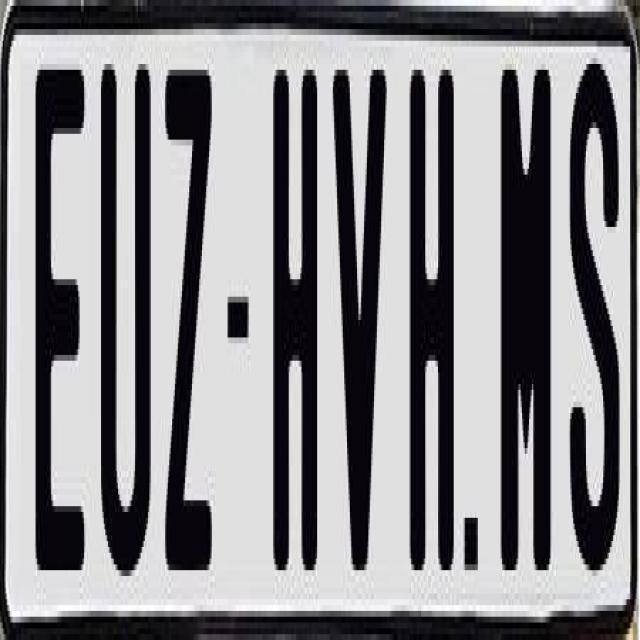license-plate: (0, 8, 620, 640)
